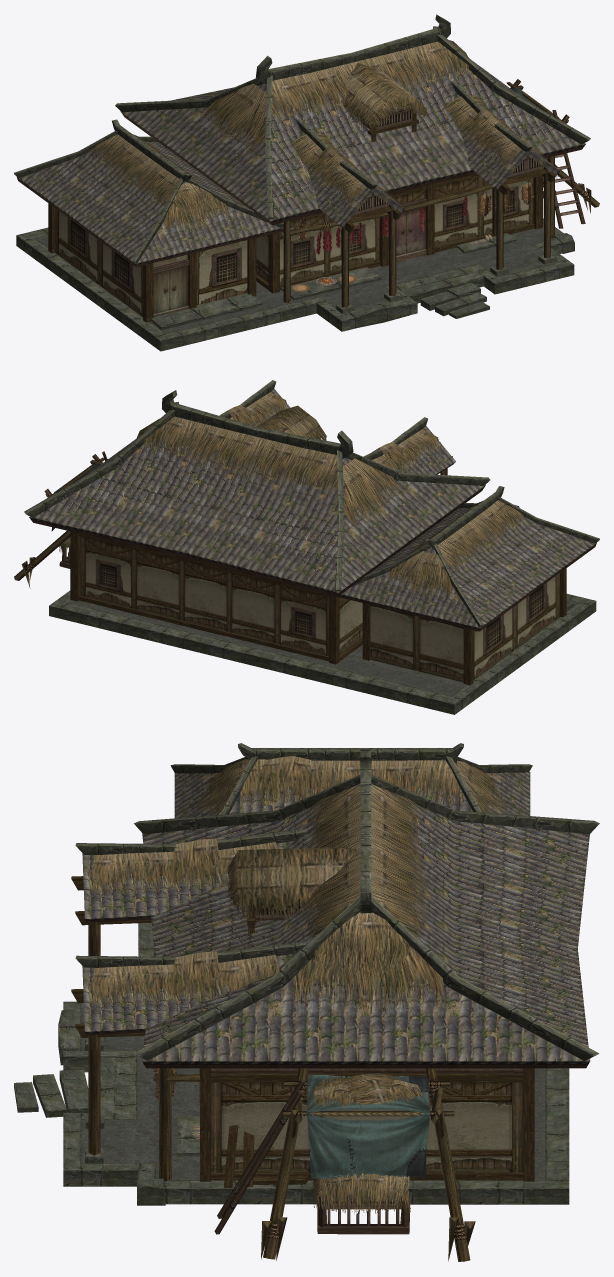
Rendered from minju_yc_30.fbx.
3 views of the same model, one above another, from view 1: azimuth 30°, elevation 25°; view 2: azimuth 150°, elevation 25°; view 3: azimuth 270°, elevation 25° (orthographic). The views are drawn at different scales.
Parts seen in each view (by area): view 1: minju_yc_30; view 2: minju_yc_30; view 3: minju_yc_30.
Boxes of the visible parts, x1=… form: minju_yc_30: x1=14, y1=14, x2=599, y2=351; minju_yc_30: x1=14, y1=380, x2=599, y2=714; minju_yc_30: x1=14, y1=743, x2=599, y2=1261.
Size of what is drawn, in the model's own units: 2517 by 990 by 1711.
